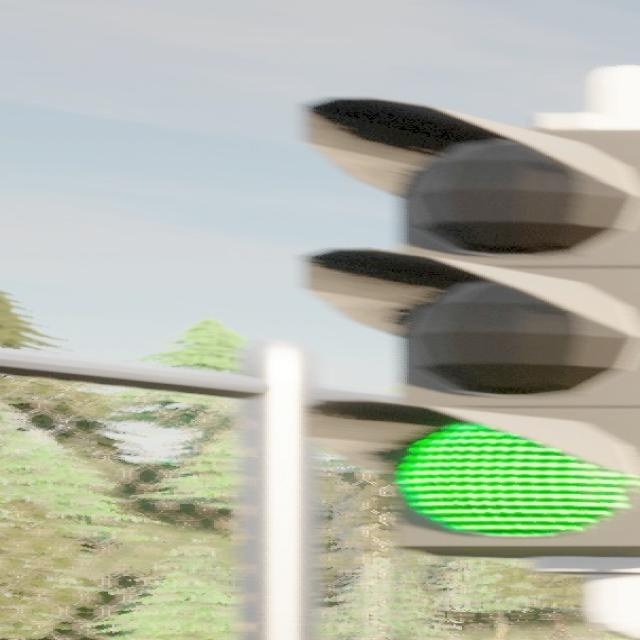green_light: (290, 81, 640, 557)
